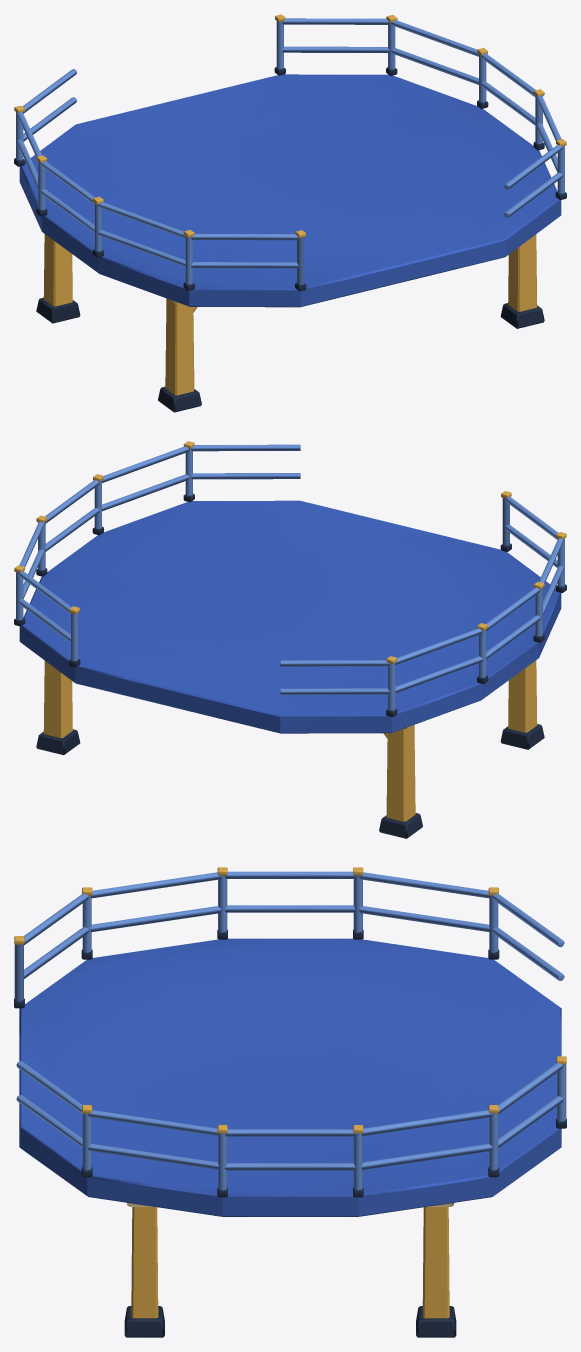
The model's file is bridge.glb.
3 views of the same model, one above another, from view 1: azimuth 30°, elevation 25°; view 2: azimuth 150°, elevation 25°; view 3: azimuth 270°, elevation 25° (orthographic). The views are drawn at different scales.
Parts seen in each view (by area): view 1: bridge; view 2: bridge; view 3: bridge.
Part boxes in pixels (<box>): bridge: <box>14,14,566,412</box>; bridge: <box>14,441,566,838</box>; bridge: <box>14,867,566,1337</box>.
Bounding box in the file's own units: 9.16 × 3.77 × 8.16.
